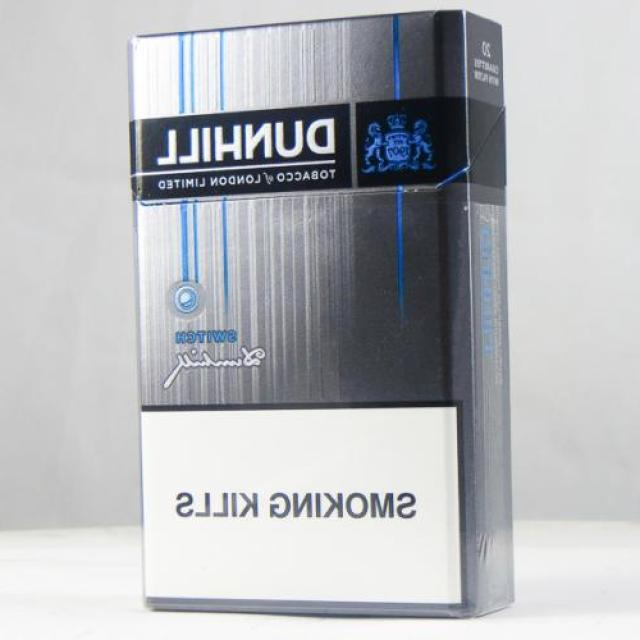dunhill: (131, 7, 515, 626)
